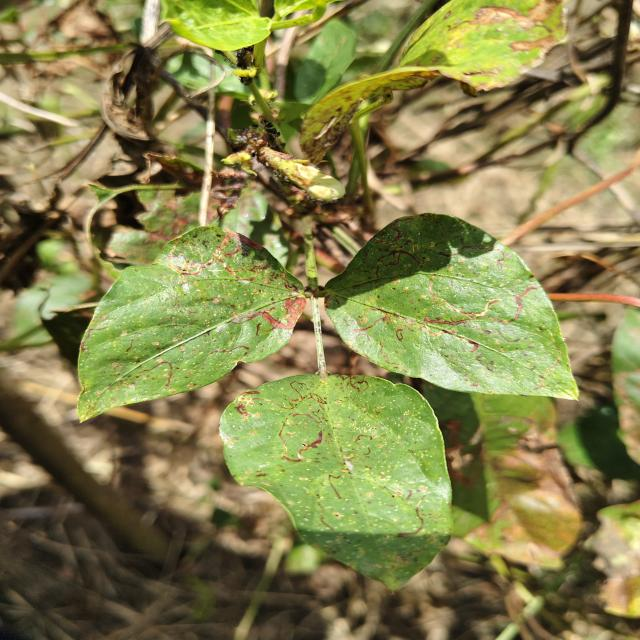leaf-healthy: (221, 375, 452, 589), (324, 213, 578, 400), (114, 227, 305, 400)
